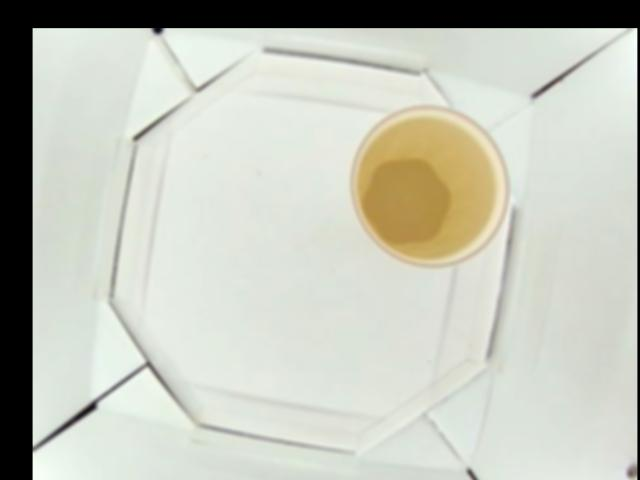Cup: (351, 103, 509, 267)
